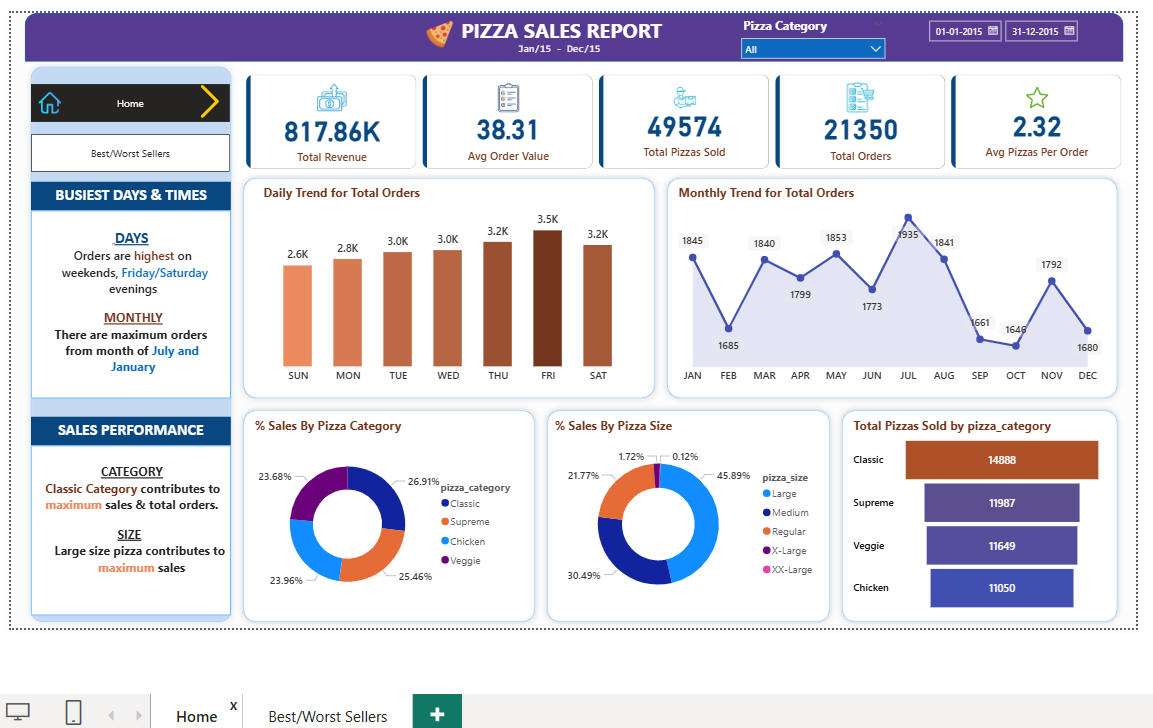

The dashboard page shown, as its layout file describes it:
{"tool":"powerbi","page":{"name":"Home","canvas":[1500,820],"ordinal":0},"visuals":[{"type":"cardVisual","fields":{"Data":["pizza_sales.Total Revenue","pizza_sales.Avg Order Value","pizza_sales.Total Pizzas Sold","pizza_sales.Total Orders","pizza_sales.Avg Pizzas Per Order"]},"box":[296.7,65,1203.3,160],"z":0},{"type":"shape","box":[18.3,0,1465,65],"z":1000},{"type":"textbox","box":[583.3,0,301.7,46.7],"z":2000},{"type":"textbox","box":[611.7,33.3,238.3,36.7],"z":3000},{"type":"image","box":[548.3,10,46.7,36.7],"z":4000},{"type":"shape","box":[301.7,211.7,565,310],"z":5000},{"type":"columnChart","title":"Daily Trend for Total Orders","fields":{"Category":["pizza_sales.Order Day"],"Y":["pizza_sales.Total Orders"]},"box":[331.7,228.3,503.3,275],"z":6000},{"type":"shape","box":[866.7,211.7,616.7,310],"z":7000},{"type":"areaChart","title":"Monthly Trend for Total Orders","fields":{"Category":["pizza_sales.Order Month"],"Y":["pizza_sales.Total Orders"]},"box":[885,228.3,575,275],"z":8000},{"type":"shape","box":[301.7,521.7,405,298.3],"z":9000},{"type":"shape","box":[706.7,521.7,393.3,298.3],"z":10000},{"type":"shape","box":[1100,521.7,383.3,298.3],"z":11000},{"type":"donutChart","title":"% Sales By Pizza Category","fields":{"Category":["pizza_sales.pizza_category"],"Y":["pizza_sales.Total Revenue"]},"box":[320,538.3,366.7,265],"z":12000},{"type":"donutChart","title":"% Sales By Pizza Size","fields":{"Y":["pizza_sales.Total Revenue"],"Category":["pizza_sales.pizza_size"]},"box":[720,538.3,366.7,265],"z":13000},{"type":"funnel","fields":{"Category":["pizza_sales.pizza_category"],"Y":["pizza_sales.Total Pizzas Sold"]},"box":[1118.3,538.3,341.7,265],"z":14000},{"type":"shape","box":[18.3,63.3,283.3,756.7],"z":15000},{"type":"textbox","box":[26.7,225,266.7,38.3],"z":16000},{"type":"textbox","box":[26.7,263.3,266.7,250],"z":17000},{"type":"textbox","box":[26.7,538.3,266.7,38.3],"z":18000},{"type":"textbox","box":[26.7,576.7,266.7,226.7],"z":19000},{"type":"slicer","fields":{"Values":["pizza_sales.pizza_category"]},"box":[963.4,0,212.2,63.4],"z":20000},{"type":"slicer","fields":{"Values":["pizza_sales.order_date"]},"box":[1211.7,0,218.3,70],"z":21000},{"type":"pageNavigator","box":[27.3,95.5,265.9,50],"z":21001},{"type":"pageNavigator","box":[27.3,161.4,265.9,50],"z":21002},{"type":"image","box":[236.4,95.5,56.8,45.5],"z":21003},{"type":"image","box":[27.3,104.5,50,29.5],"z":21004}]}

Visuals, with their boxes on the page's 1500x820 design canvas (x1, y1, x2, y2). These are canvas units, not pixel positions in the 1153x728 screenshot, which may show the page scaled, cropped or inside an application window:
cardVisual - pizza_sales.Total Revenue x pizza_sales.Avg Order Value: <bbox>297, 65, 1500, 225</bbox>
shape: <bbox>18, 0, 1483, 65</bbox>
textbox: <bbox>583, 0, 885, 47</bbox>
textbox: <bbox>612, 33, 850, 70</bbox>
image: <bbox>548, 10, 595, 47</bbox>
shape: <bbox>302, 212, 867, 522</bbox>
"Daily Trend for Total Orders" columnChart: <bbox>332, 228, 835, 503</bbox>
shape: <bbox>867, 212, 1483, 522</bbox>
"Monthly Trend for Total Orders" areaChart: <bbox>885, 228, 1460, 503</bbox>
shape: <bbox>302, 522, 707, 820</bbox>
shape: <bbox>707, 522, 1100, 820</bbox>
shape: <bbox>1100, 522, 1483, 820</bbox>
"% Sales By Pizza Category" donutChart: <bbox>320, 538, 687, 803</bbox>
"% Sales By Pizza Size" donutChart: <bbox>720, 538, 1087, 803</bbox>
funnel - pizza_sales.pizza_category x pizza_sales.Total Pizzas Sold: <bbox>1118, 538, 1460, 803</bbox>
shape: <bbox>18, 63, 302, 820</bbox>
textbox: <bbox>27, 225, 293, 263</bbox>
textbox: <bbox>27, 263, 293, 513</bbox>
textbox: <bbox>27, 538, 293, 577</bbox>
textbox: <bbox>27, 577, 293, 803</bbox>
slicer - pizza_sales.pizza_category: <bbox>963, 0, 1176, 63</bbox>
slicer - pizza_sales.order_date: <bbox>1212, 0, 1430, 70</bbox>
pageNavigator: <bbox>27, 96, 293, 146</bbox>
pageNavigator: <bbox>27, 161, 293, 211</bbox>
image: <bbox>236, 96, 293, 141</bbox>
image: <bbox>27, 104, 77, 134</bbox>
